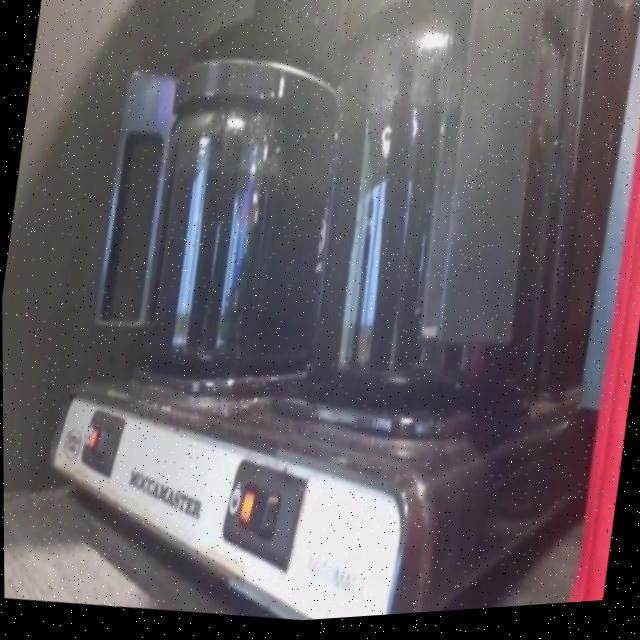coffee: (306, 67, 569, 420), (137, 116, 334, 386)
